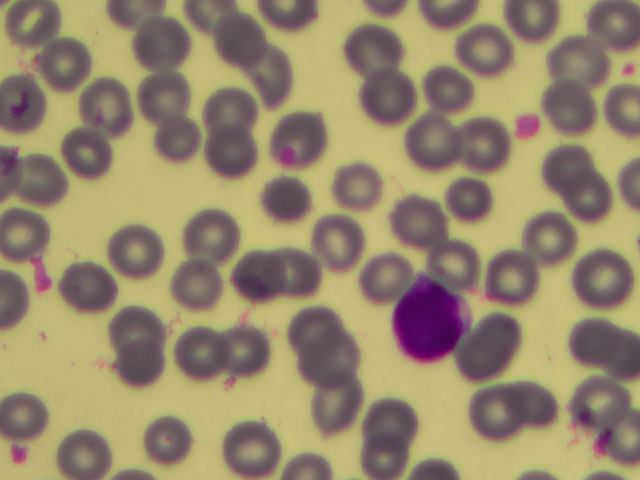Platelets: (27, 258, 53, 295), (513, 111, 541, 144), (8, 443, 28, 464), (623, 62, 640, 82)
RBC: (218, 409, 280, 476), (135, 408, 197, 475), (53, 426, 111, 479), (32, 36, 88, 89), (1, 77, 57, 130), (60, 126, 116, 179), (15, 152, 71, 205), (2, 204, 58, 257), (79, 81, 135, 134), (134, 67, 190, 120), (134, 17, 190, 70), (151, 115, 207, 168), (195, 79, 251, 132), (207, 127, 263, 180), (260, 115, 316, 168), (244, 50, 300, 103), (214, 15, 270, 68), (344, 22, 400, 75), (363, 71, 419, 124), (424, 62, 480, 115), (453, 23, 509, 76), (547, 34, 603, 87), (584, 1, 640, 54), (542, 77, 598, 130), (534, 138, 590, 191), (560, 165, 616, 218), (447, 173, 503, 226), (457, 117, 513, 170), (413, 117, 469, 170), (330, 162, 386, 215), (265, 173, 321, 226), (185, 203, 241, 256), (174, 258, 230, 311), (109, 220, 165, 273), (61, 256, 117, 309), (106, 300, 162, 353), (114, 346, 170, 399), (172, 323, 228, 376), (217, 321, 273, 374), (282, 302, 338, 355), (274, 243, 330, 296), (237, 250, 293, 303), (305, 216, 361, 269), (359, 244, 415, 297), (395, 196, 451, 249), (432, 233, 488, 286), (482, 250, 538, 303), (515, 213, 571, 266), (574, 245, 630, 298), (473, 303, 529, 356), (448, 334, 504, 387), (464, 379, 520, 432), (504, 373, 560, 426), (571, 377, 627, 430), (563, 317, 619, 370), (584, 405, 640, 458), (519, 264, 575, 317), (369, 397, 425, 450), (350, 427, 406, 480), (310, 378, 366, 431), (305, 337, 361, 390), (6, 1, 62, 53)
WBC: (395, 275, 472, 359)
